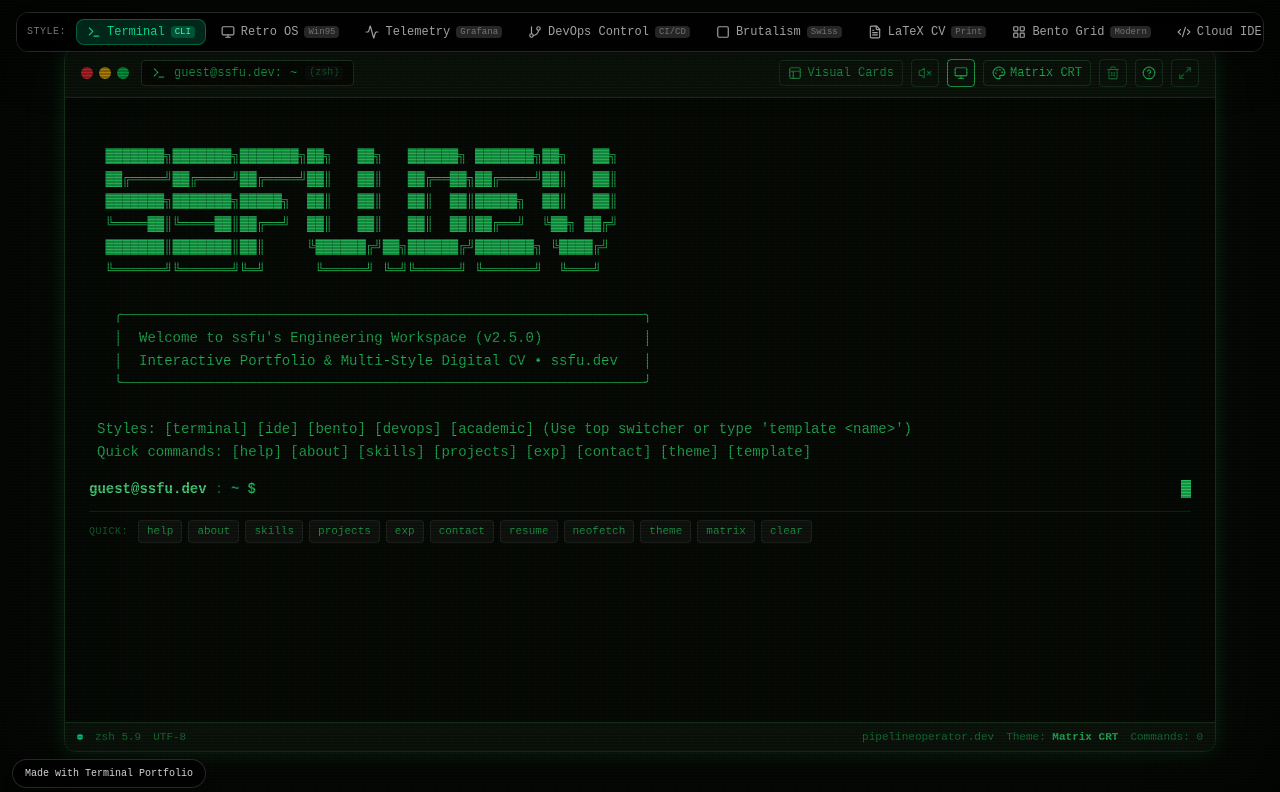
Test: App browser state integration › renders the DevOps control plane from the saved PortfolioConfig
Click the button "DevOps Control CI/CD": (609, 32) [517, 19, 701, 45]
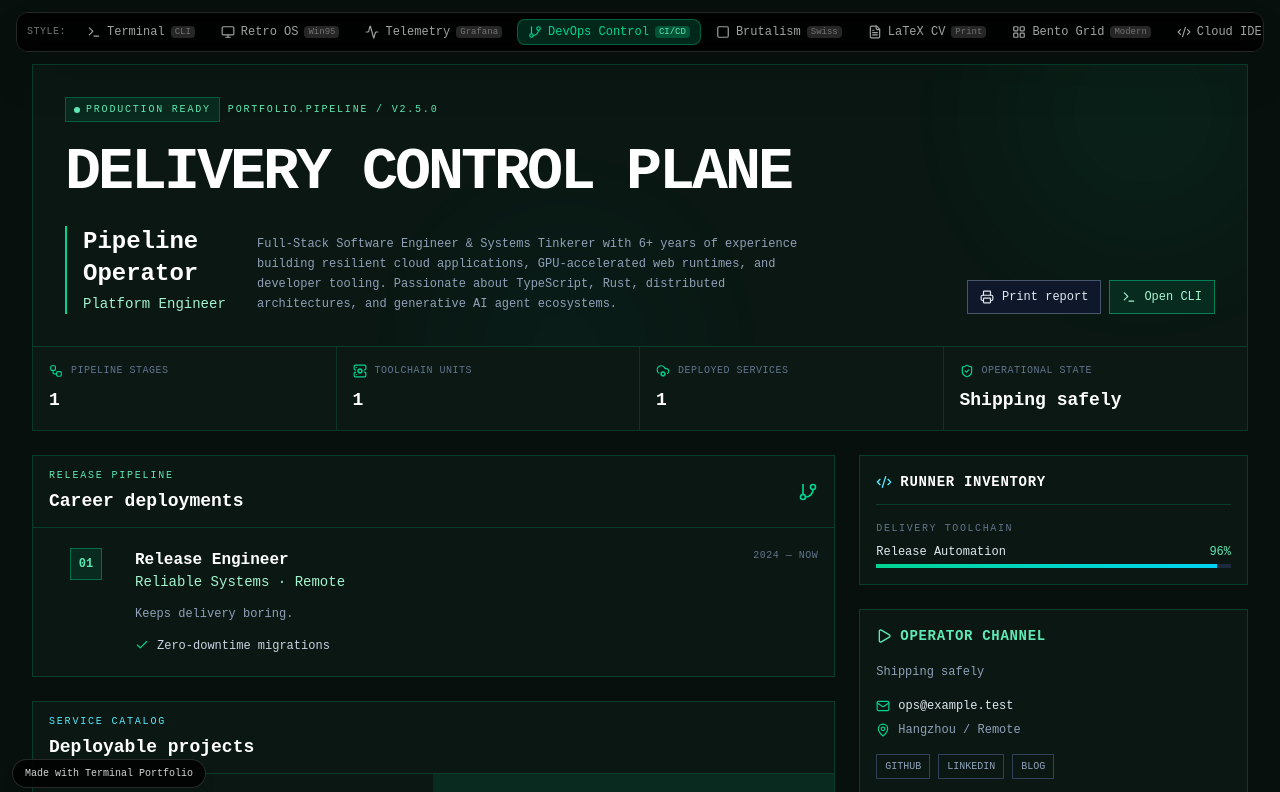
Now the heading "Delivery Control Plane" is shown, box [65, 142, 833, 202]
Now the text "Pipeline Operator" is shown, box [83, 228, 198, 287]
Now the heading "Release Engineer" is shown, box [135, 551, 289, 569]
